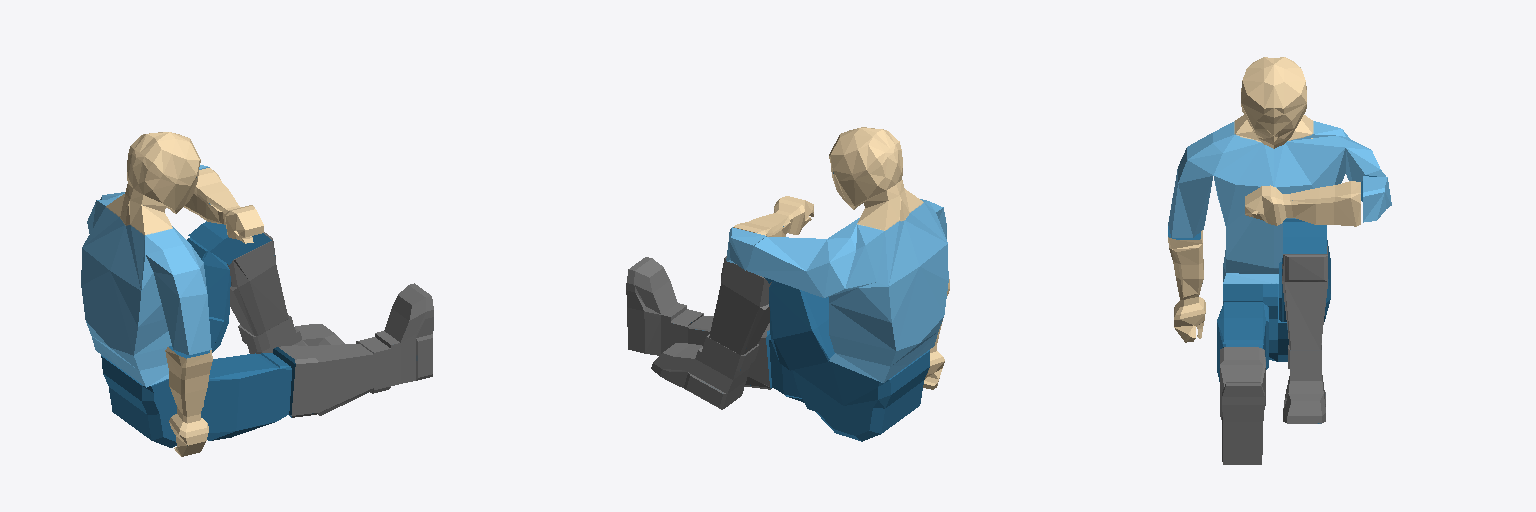
The picture shows the model from 3 angles: view 1: azimuth 30°, elevation 25°; view 2: azimuth 150°, elevation 25°; view 3: azimuth 270°, elevation 25°; orthographic projection.
Parts seen in each view (by area): view 1: helper1:rightarm_polySurface2; view 2: helper1:rightarm_polySurface2; view 3: helper1:rightarm_polySurface2.
Boxes of the visible parts, x1,y1,x2,y2 form: helper1:rightarm_polySurface2: [81, 132, 433, 456]; helper1:rightarm_polySurface2: [626, 127, 949, 441]; helper1:rightarm_polySurface2: [1168, 57, 1391, 464].
Size of the model in its own units: 3.41 by 3.23 by 2.21.
1 materials, 1 textured.